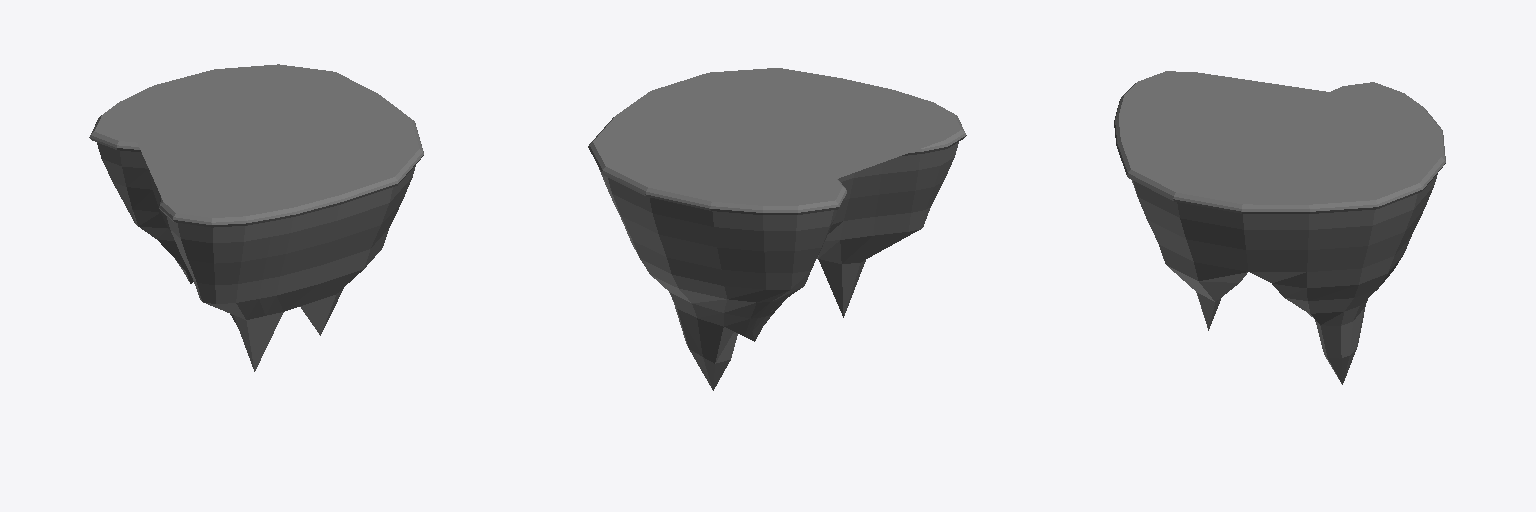
Rendered from islando1.obj.
3 renders of one model, left to right at view 1: azimuth 30°, elevation 25°; view 2: azimuth 150°, elevation 25°; view 3: azimuth 270°, elevation 25°, orthographic.
Visible parts, largest first — view 1: polySurface1; view 2: polySurface1; view 3: polySurface1.
Boxes of the visible parts, x1,y1,x2,y2 form: polySurface1: [89, 64, 423, 371]; polySurface1: [588, 68, 966, 390]; polySurface1: [1114, 71, 1445, 384].
Bounding box in the file's own units: 206 × 165 × 211.